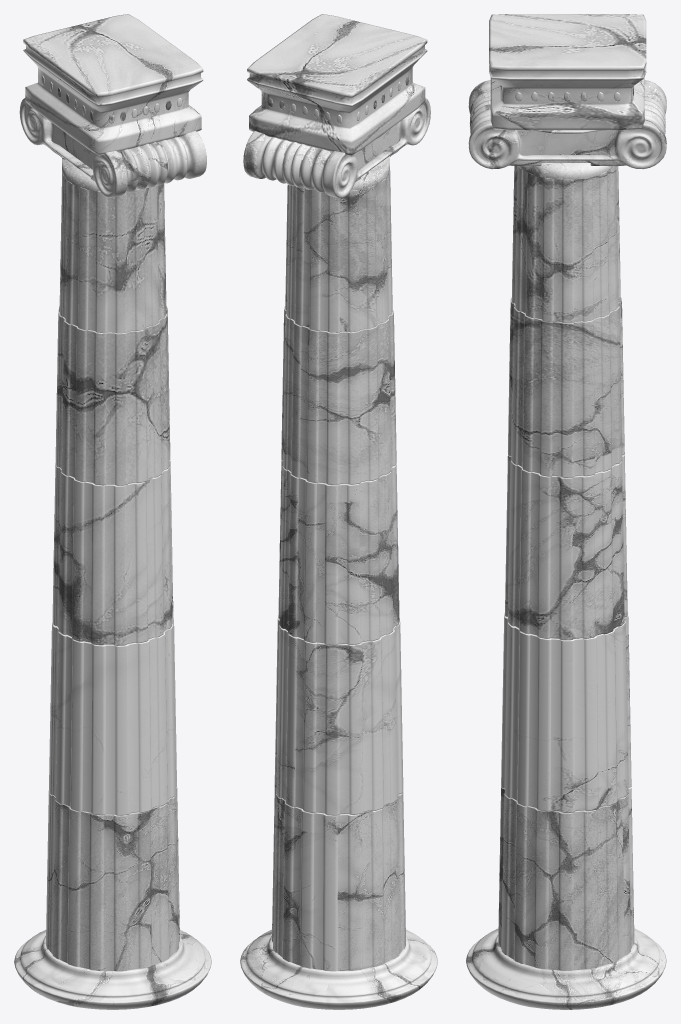
The model's file is FullColumnV2.FBX.
3 renders of one model, left to right at view 1: azimuth 30°, elevation 25°; view 2: azimuth 150°, elevation 25°; view 3: azimuth 270°, elevation 25°, orthographic.
Parts seen in each view (by area): view 1: FullColumnV2; view 2: FullColumnV2; view 3: FullColumnV2.
Part boxes in pixels (x1,y1,x2,y2): FullColumnV2: [14, 14, 211, 1009]; FullColumnV2: [240, 14, 437, 1009]; FullColumnV2: [466, 14, 666, 1009].
Bounding box in the file's own units: 302 × 302 × 1550.
1 material, 1 textured.
